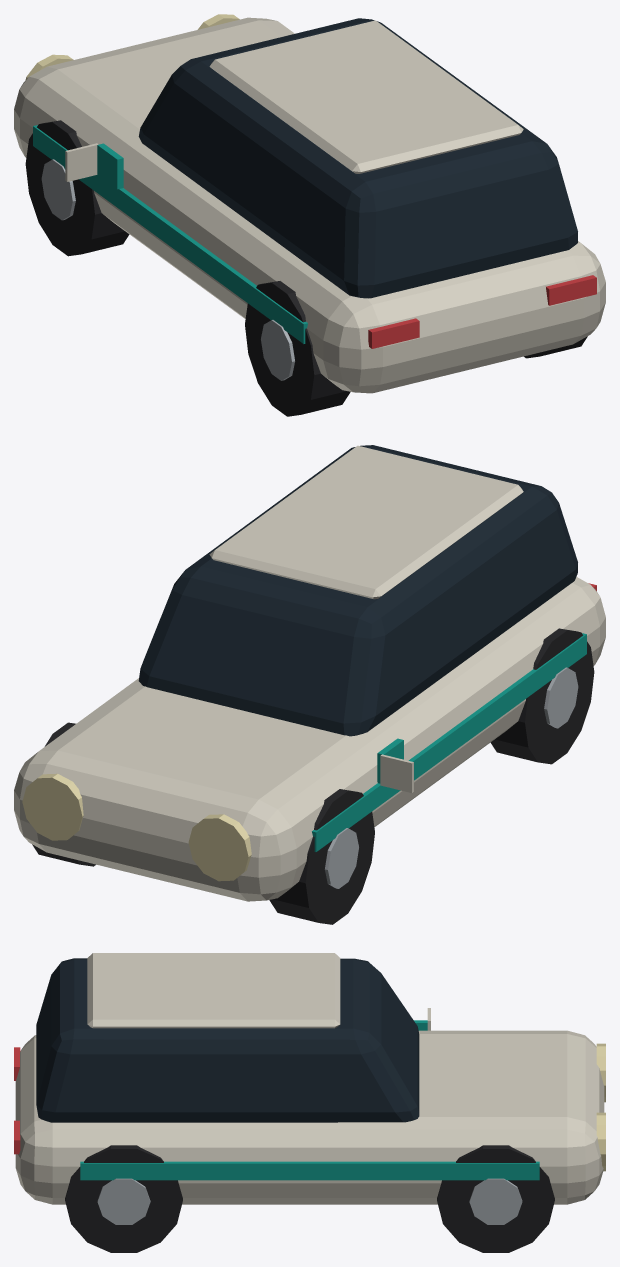
Rendered from hatchback.glb.
The picture shows the model from 3 angles, top to bottom: view 1: azimuth 30°, elevation 25°; view 2: azimuth 150°, elevation 25°; view 3: azimuth 270°, elevation 25°; orthographic projection. The views are drawn at different scales.
Parts seen in each view (by area): view 1: hatchback; view 2: hatchback; view 3: hatchback.
Part boxes in pixels (<box>): hatchback: <box>14,14,605,416</box>; hatchback: <box>14,445,605,924</box>; hatchback: <box>14,953,605,1252</box>.
Bounding box in the file's own units: 2 × 1.49 × 3.82.
